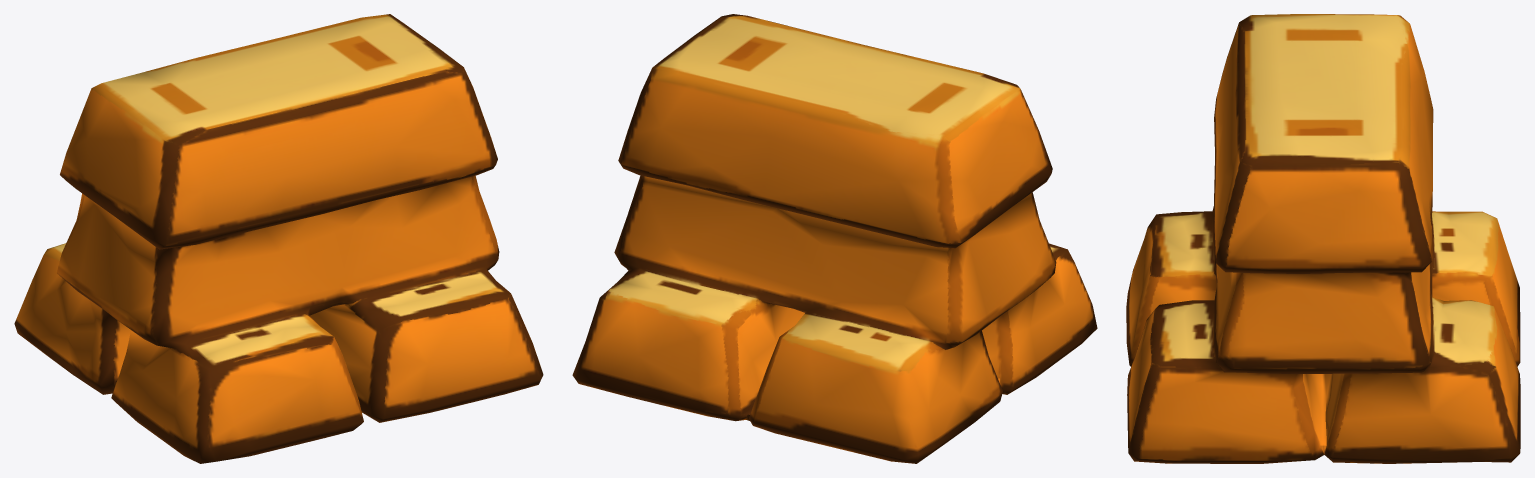
The model's file is loot-gold.glb.
3 views of the same model, side by side, from view 1: azimuth 30°, elevation 25°; view 2: azimuth 150°, elevation 25°; view 3: azimuth 270°, elevation 25° (orthographic). The views are drawn at different scales.
Visible parts, largest first — view 1: geometry_0.001; view 2: geometry_0.001; view 3: geometry_0.001.
Boxes of the visible parts, <box> form: geometry_0.001: <box>14,14,543,463</box>; geometry_0.001: <box>572,14,1097,463</box>; geometry_0.001: <box>1126,14,1520,463</box>.
Size of the model in its own units: 0.9992 by 0.7745 by 0.9404.
1 material, 1 textured.
